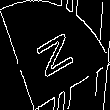N_SW: (31, 25, 79, 85)
